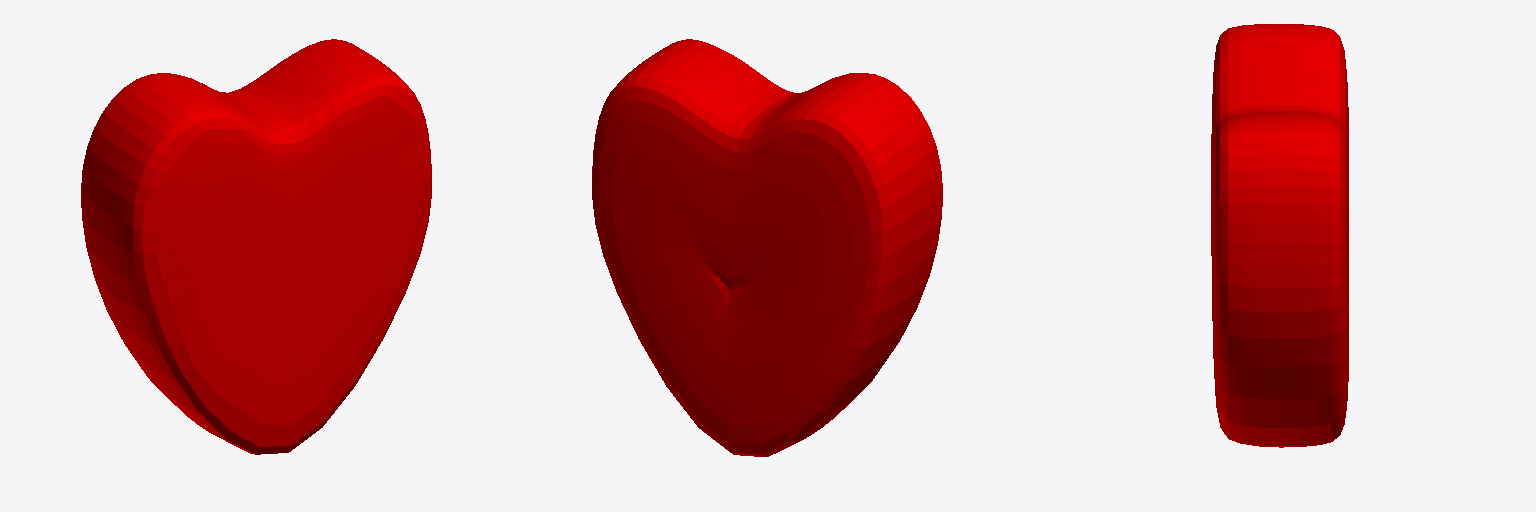
File: bonus.obj
3 views of the same model, side by side, from view 1: azimuth 30°, elevation 25°; view 2: azimuth 150°, elevation 25°; view 3: azimuth 270°, elevation 25° (orthographic).
Visible parts, largest first — view 1: Polygon; view 2: Polygon; view 3: Polygon.
Part boxes in pixels (left/top/right/bottom): Polygon: left=81, top=39, right=431, bottom=454; Polygon: left=592, top=39, right=942, bottom=456; Polygon: left=1211, top=24, right=1348, bottom=447.
Bounding box in the file's own units: 271 × 315 × 106.